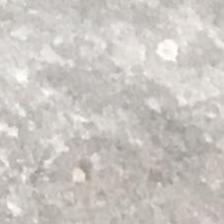Non_Crack: (35, 35, 204, 172)
